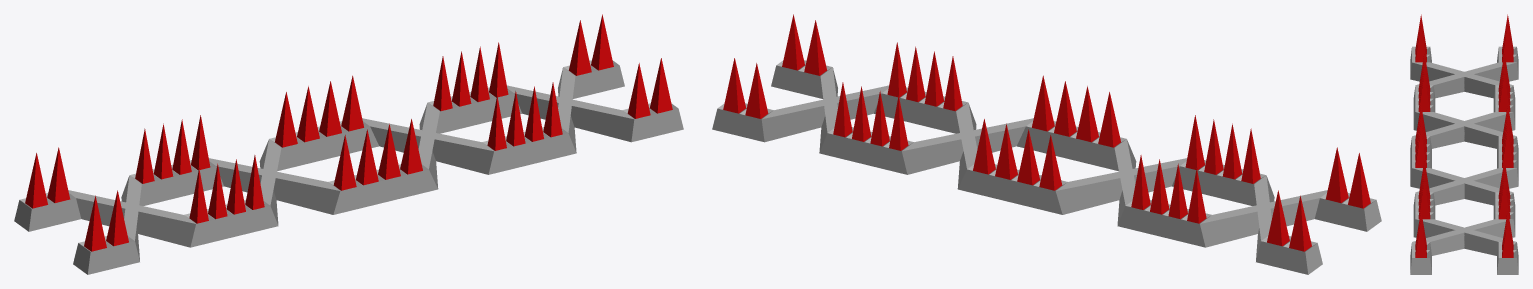
The model's file is spike.fbx.
3 views of the same model, side by side, from view 1: azimuth 30°, elevation 25°; view 2: azimuth 150°, elevation 25°; view 3: azimuth 270°, elevation 25° (orthographic). The views are drawn at different scales.
Visible parts, largest first — view 1: Cube.003; view 2: Cube.003; view 3: Cube.003.
Boxes of the visible parts, x1,y1,x2,y2 form: Cube.003: (14,14,683,274); Cube.003: (712,14,1381,274); Cube.003: (1410,14,1518,274).
Bounding box in the file's own units: 5.39 × 1.15 × 0.6109.
